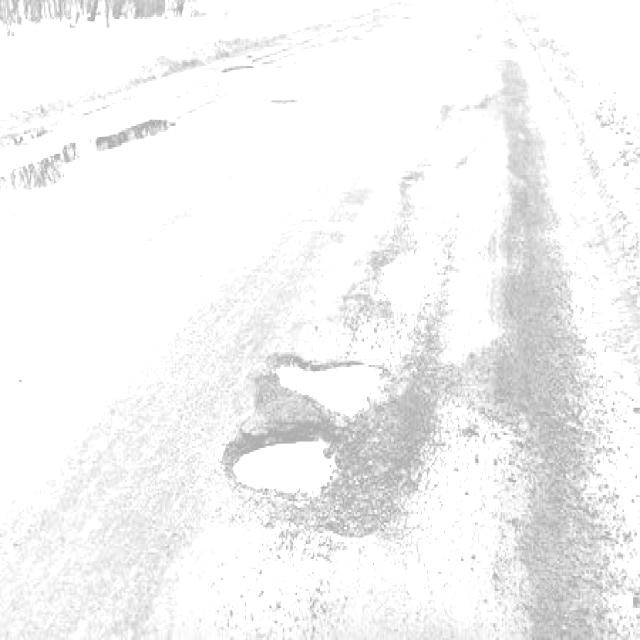Pothole: (208, 244, 471, 544), (3, 103, 180, 205)
